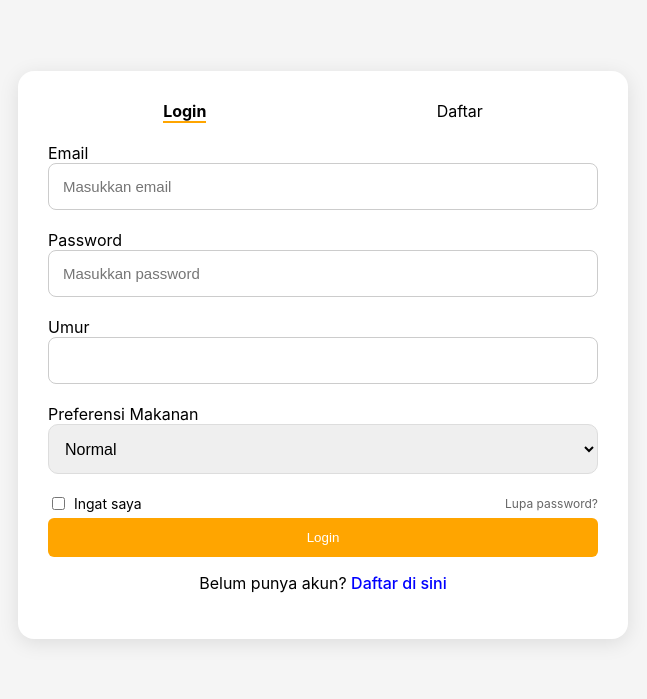
Test case: Login › berpindah ke mode daftar saat klik Daftar di sini
Click the text "Daftar di sini": (399,583) [351, 573, 447, 593]
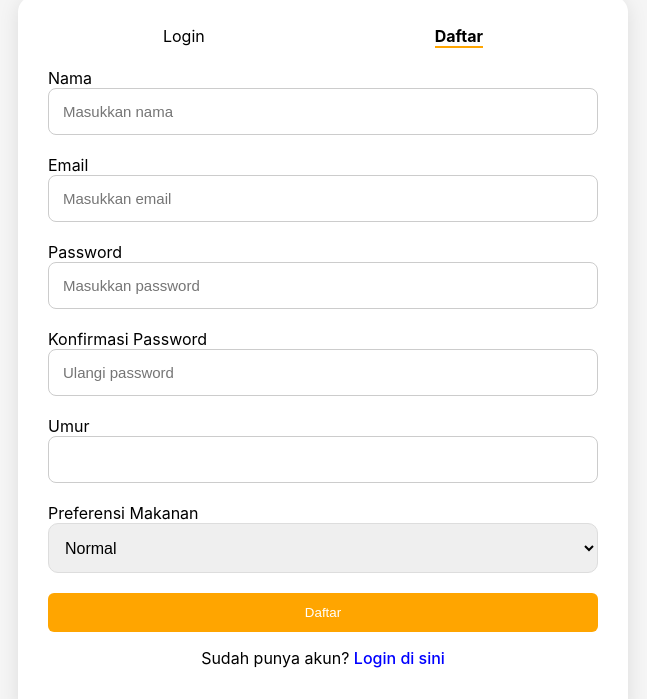
Expected: the button "Daftar" is shown, [48, 593, 598, 632]
Expected: the password field with placeholder "Ulangi password" is shown, [48, 349, 598, 396]
Expected: the text "Sudah punya akun?" is shown, [201, 648, 349, 668]
